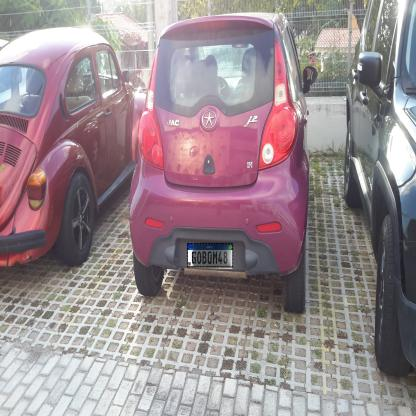PlacaM: (187, 243, 233, 267)
